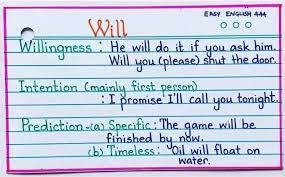text: (18, 38, 276, 60), (21, 116, 257, 137), (17, 77, 197, 98), (101, 92, 279, 112), (108, 52, 277, 73), (88, 141, 261, 159), (105, 130, 204, 151), (86, 16, 128, 40), (203, 8, 268, 20), (177, 155, 212, 168)
